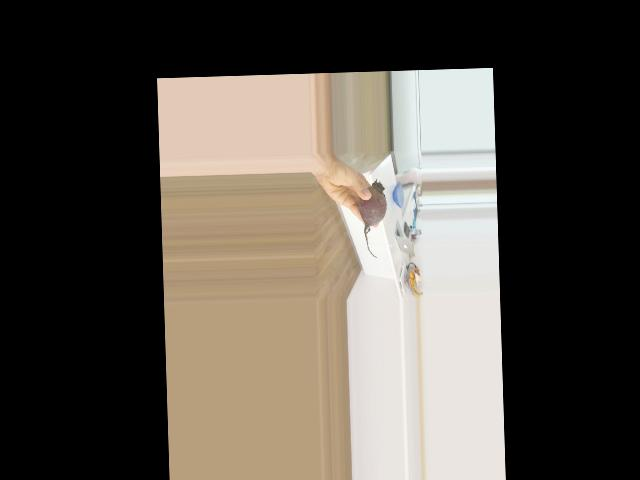beet: (358, 179, 388, 258)
